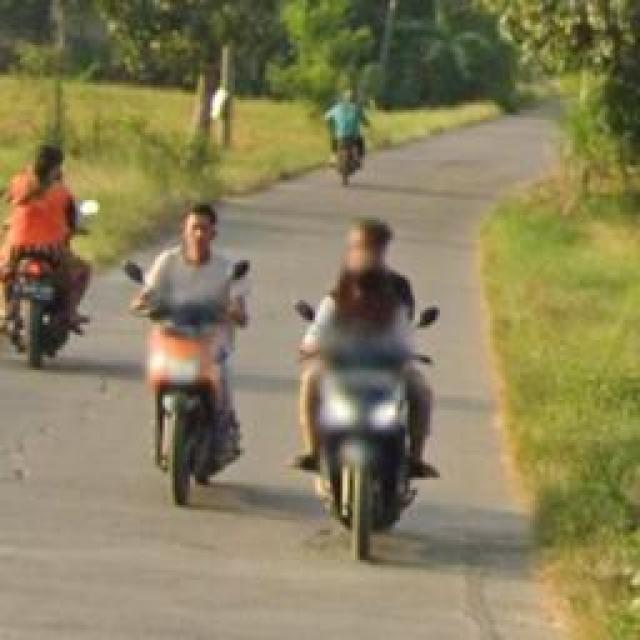Motor: (315, 338, 418, 560), (138, 305, 225, 508), (5, 252, 70, 368)
